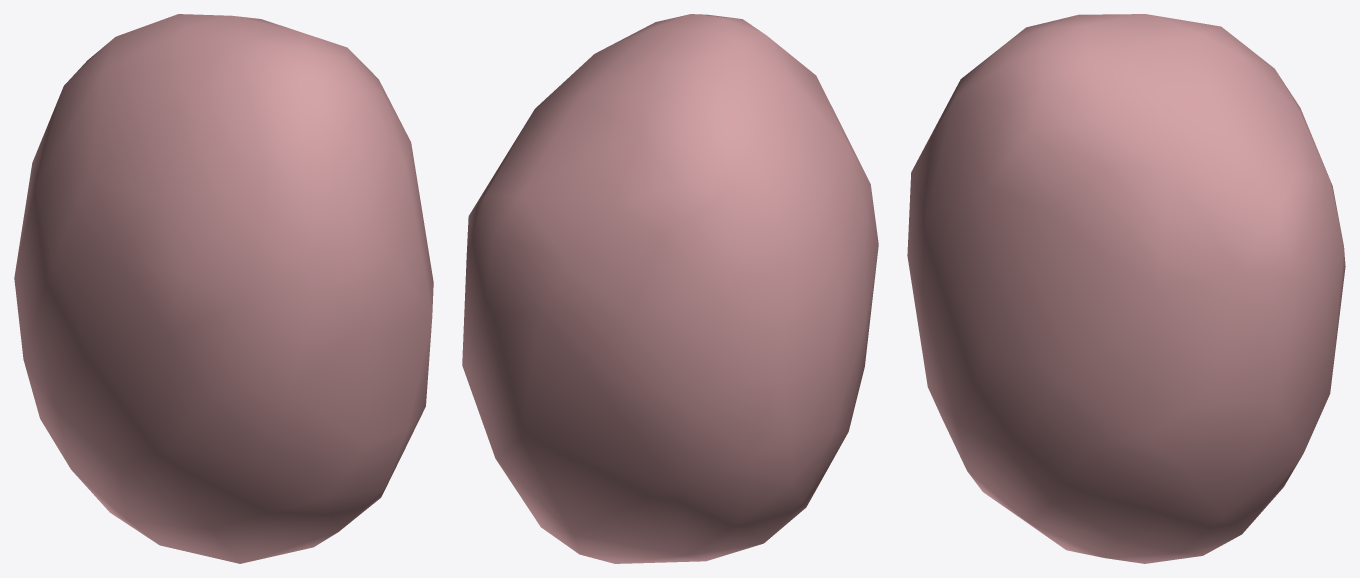
The model's file is fma7211_fj3142.glb.
3 renders of one model, left to right at view 1: azimuth 30°, elevation 25°; view 2: azimuth 150°, elevation 25°; view 3: azimuth 270°, elevation 25°, orthographic. The views are drawn at different scales.
Parts seen in each view (by area): view 1: FMA7211_FJ3142; view 2: FMA7211_FJ3142; view 3: FMA7211_FJ3142.
Boxes of the visible parts, <box> form: FMA7211_FJ3142: <box>14,14,433,563</box>; FMA7211_FJ3142: <box>462,14,878,563</box>; FMA7211_FJ3142: <box>907,14,1345,563</box>.
Bounding box in the file's own units: 0.0204 × 0.0284 × 0.0222.
